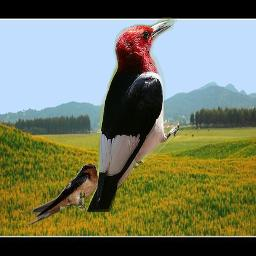Swallow: (24, 164, 98, 225)
Woodpecker: (83, 17, 179, 212)
